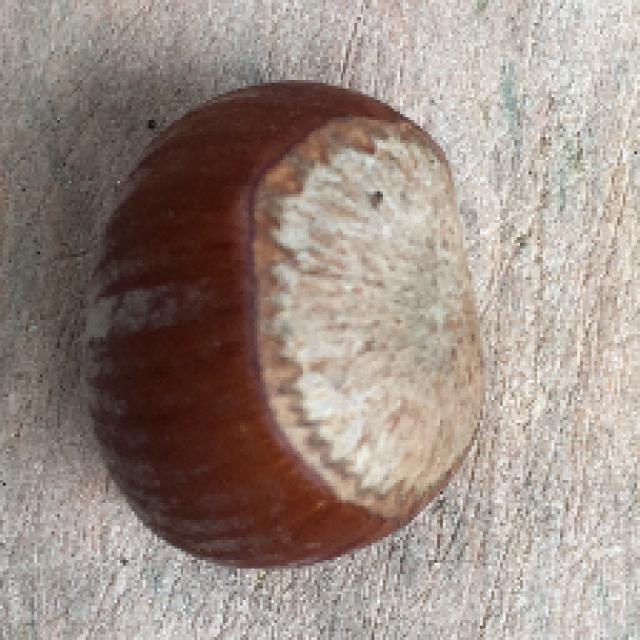QualityHazelnut: (86, 81, 488, 574)
